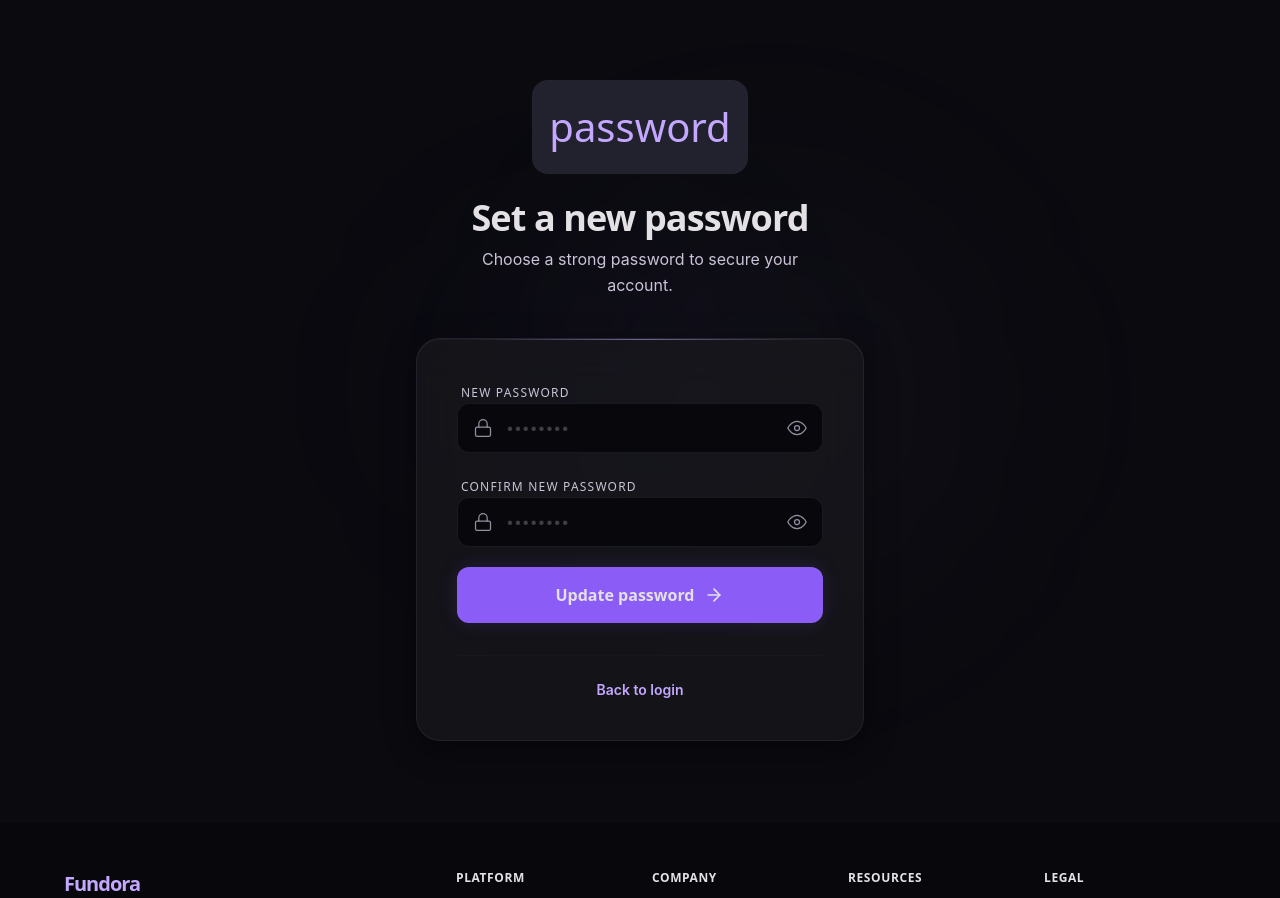
ResetPasswordPage › handles an updateUser session error as an expired token
Type "newpass123" into the password field labelled "New Password". click: x=640, y=428
box: [457,403,823,453]
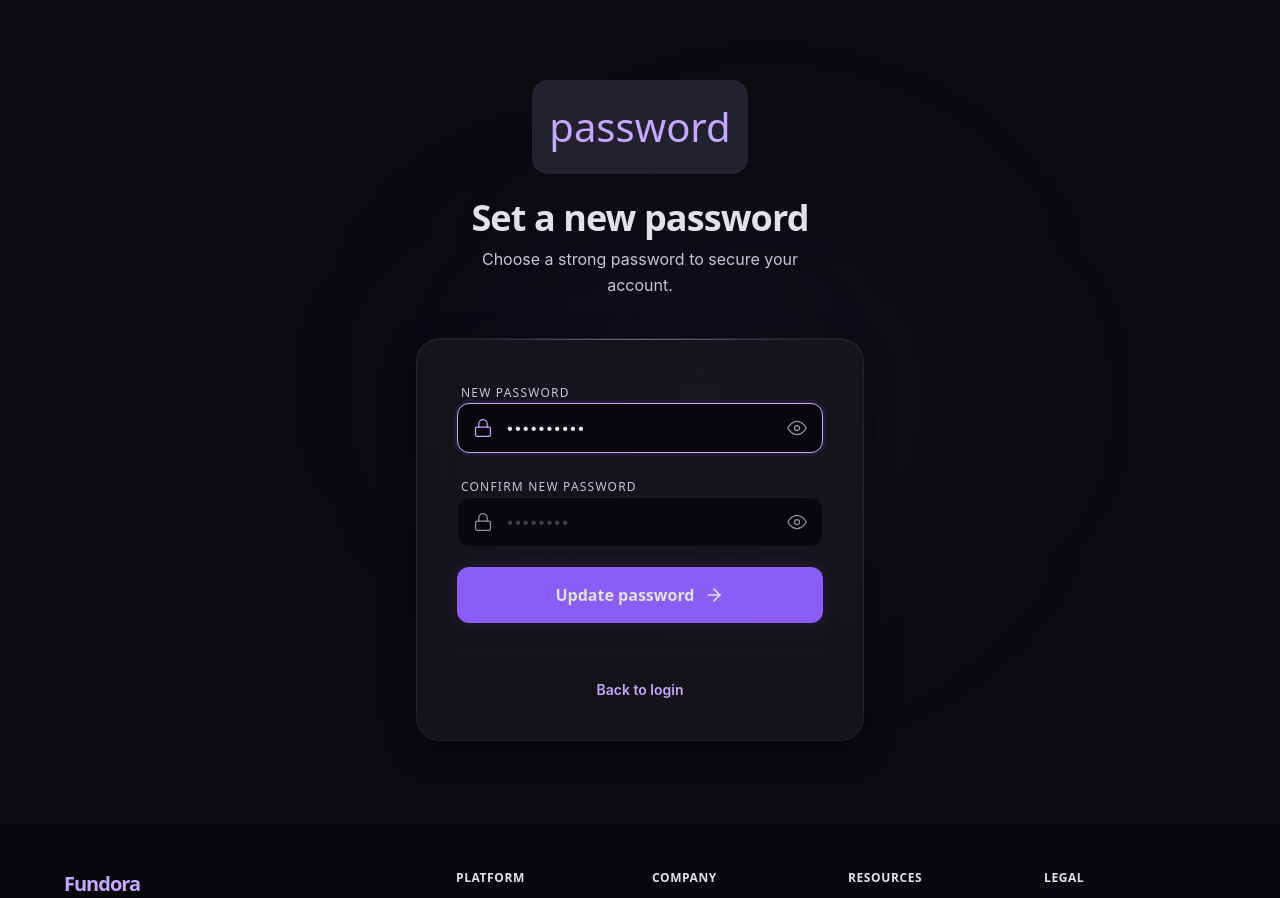
Type "newpass123" into the password field labelled "Confirm New Password". click: x=640, y=522
box: [457,497,823,547]
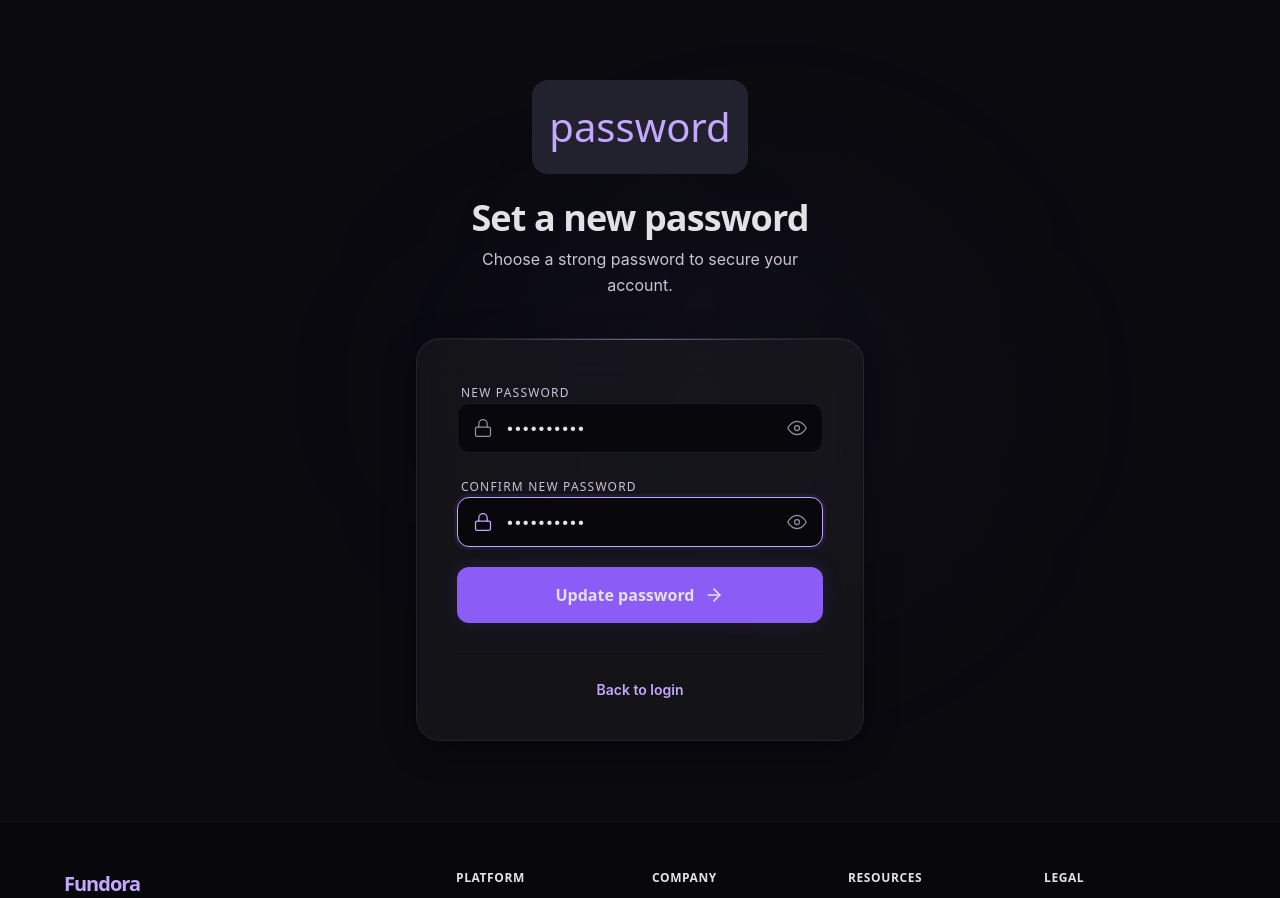
Click the button "Update password". click: x=640, y=595
box: [457,567,823,623]
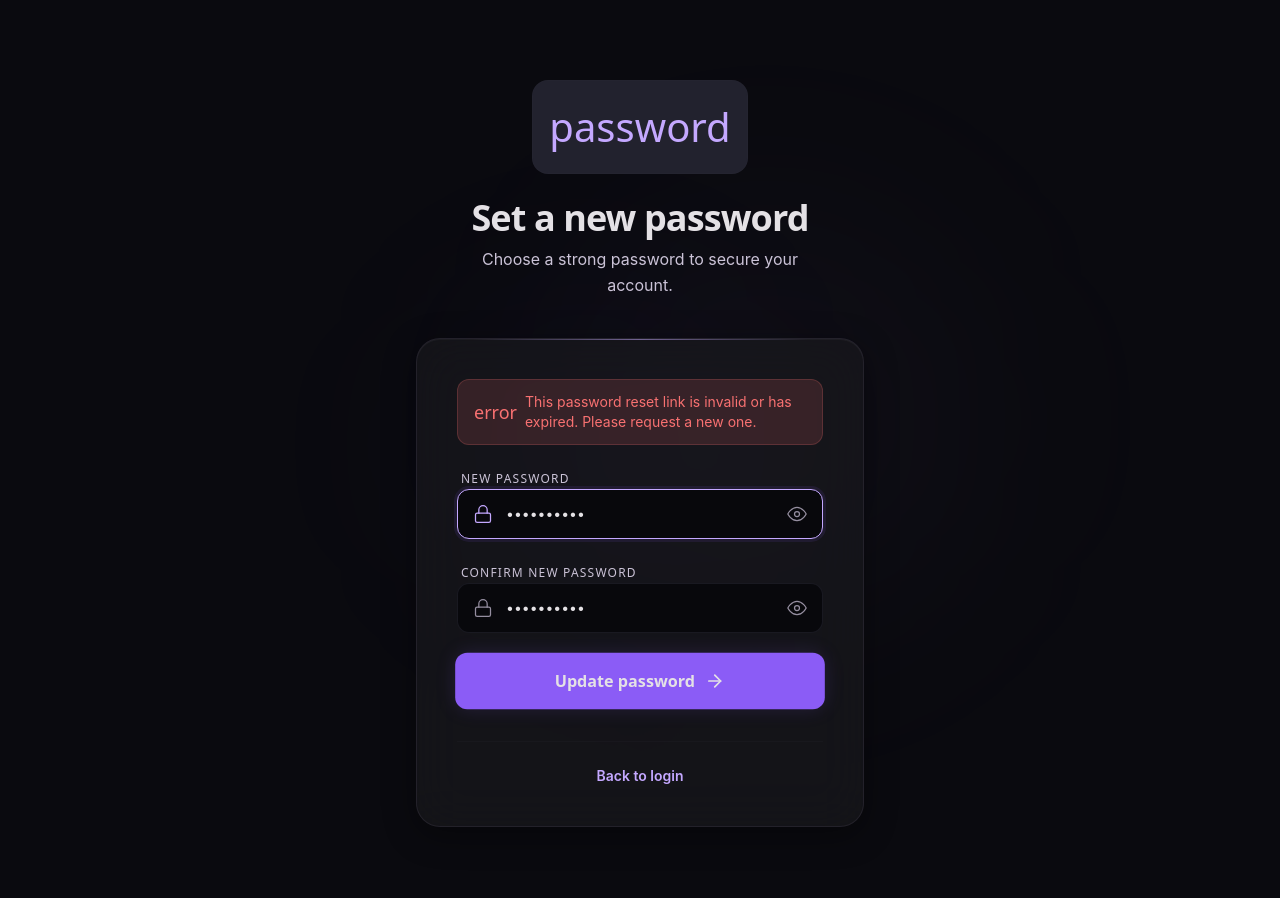
Expected: the text "invalid or has expired" is shown, [525,393,792,430]
